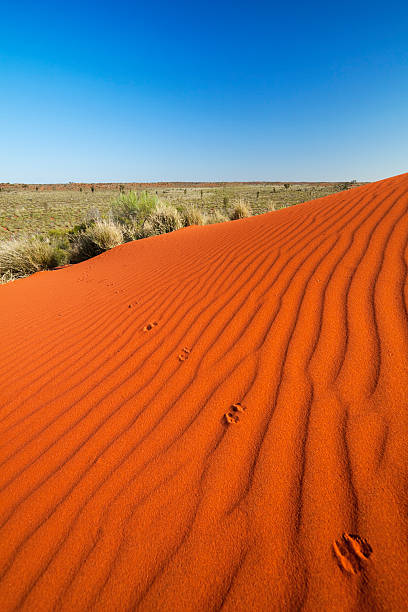animal_footprint: (333, 533, 371, 573), (224, 402, 245, 423), (178, 347, 190, 361), (224, 412, 239, 423), (143, 321, 157, 331), (231, 402, 245, 411)
